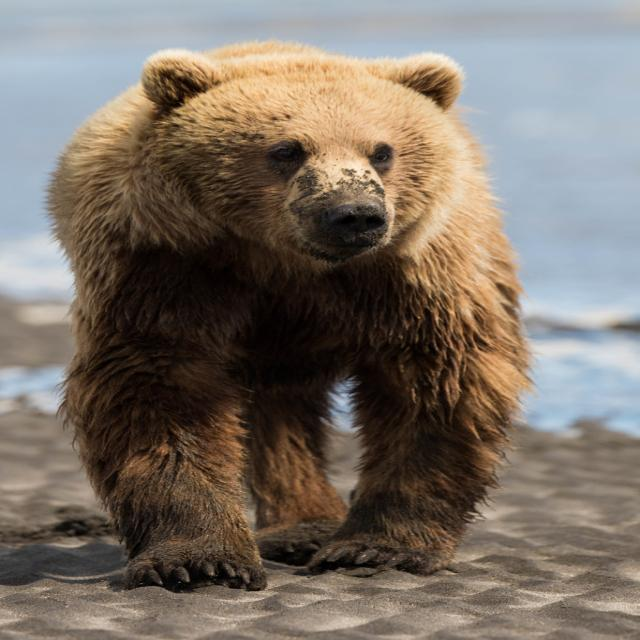Cheetahs: (37, 36, 545, 594)
